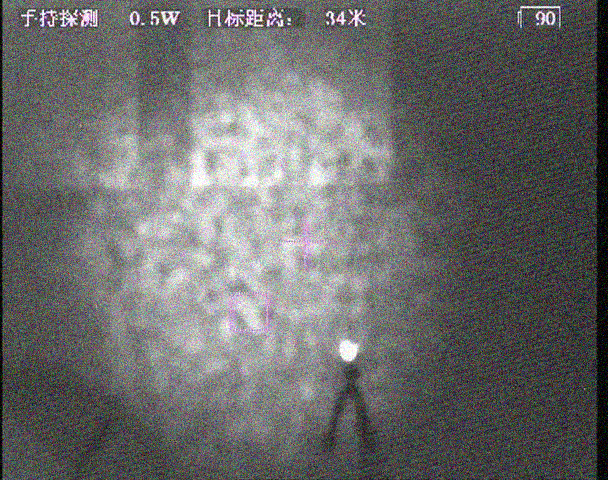my: (338, 337, 359, 363)
